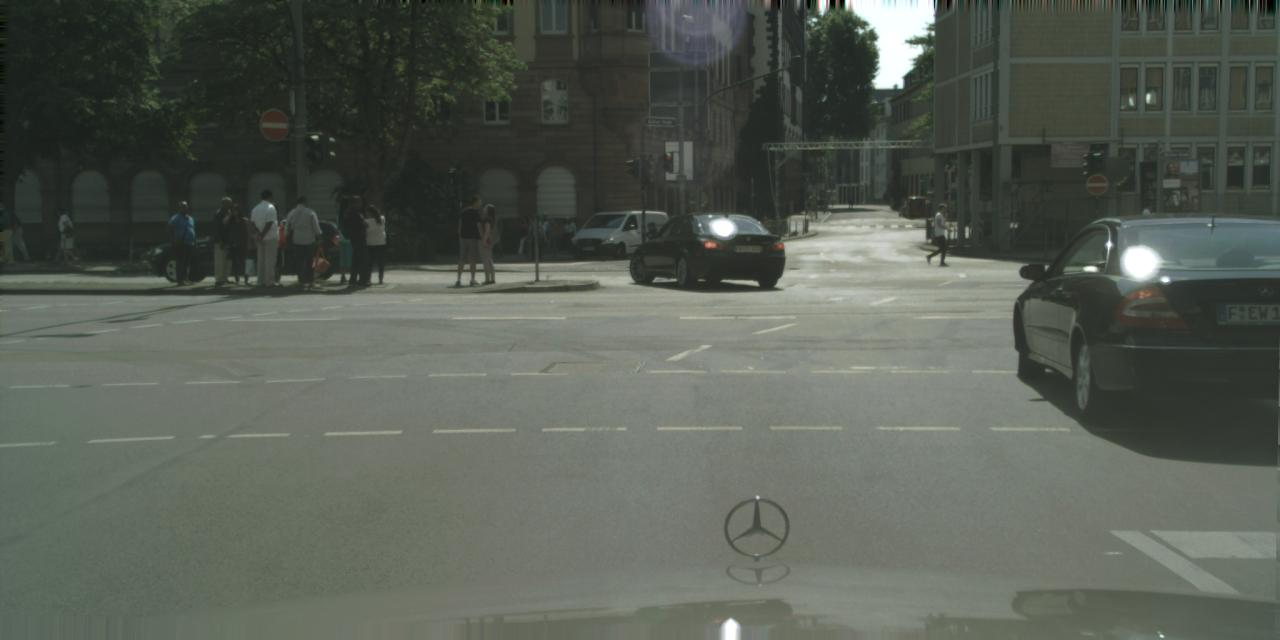ped: (246, 190, 286, 286), (286, 195, 323, 286), (452, 196, 488, 286), (338, 197, 373, 286), (208, 196, 243, 284), (330, 196, 365, 282), (255, 198, 289, 284), (168, 200, 202, 284), (222, 201, 256, 285), (356, 206, 388, 284), (474, 205, 504, 281), (52, 208, 80, 264), (926, 203, 951, 264), (0, 207, 22, 262), (0, 201, 16, 263), (1139, 203, 1158, 251), (488, 211, 506, 257), (526, 213, 542, 256), (540, 211, 556, 253), (517, 213, 533, 253), (560, 217, 574, 252), (807, 198, 814, 218), (848, 195, 852, 207), (830, 193, 834, 203), (804, 202, 804, 210)
